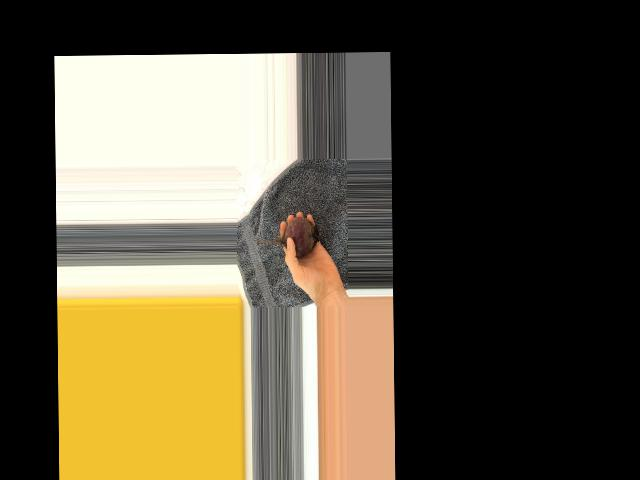beet: (252, 216, 319, 257)
